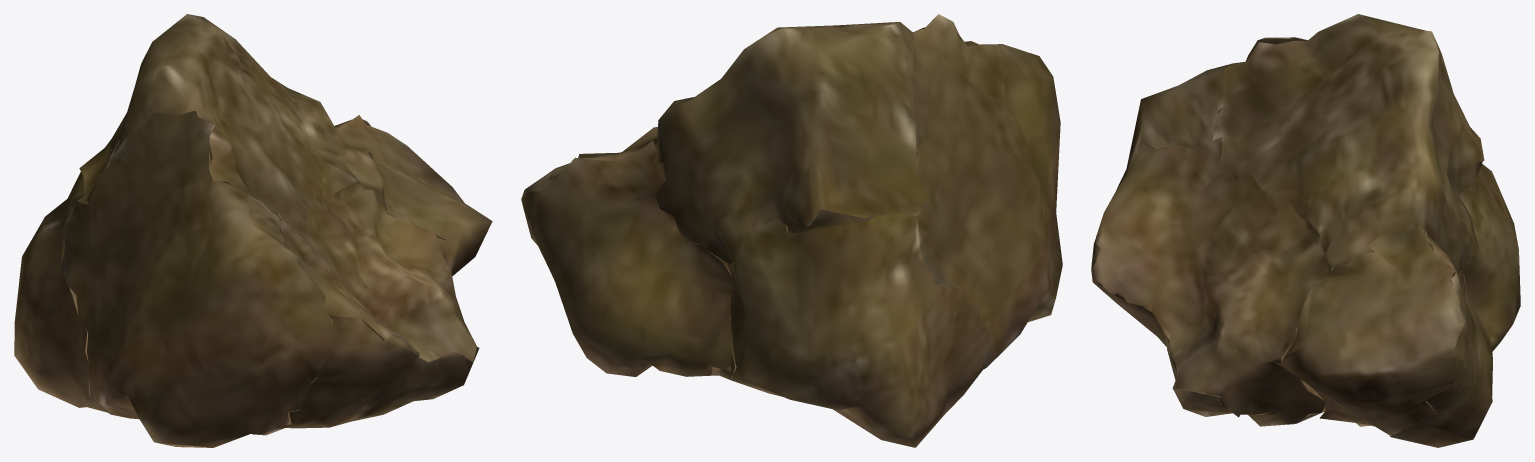
File: rock_moss_a.glb
The picture shows the model from 3 angles, left to right: view 1: azimuth 30°, elevation 25°; view 2: azimuth 150°, elevation 25°; view 3: azimuth 270°, elevation 25°; orthographic projection. The views are drawn at different scales.
Parts seen in each view (by area): view 1: rock_moss_set_01_rock04; view 2: rock_moss_set_01_rock04; view 3: rock_moss_set_01_rock04.
Part boxes in pixels (x1=…): rock_moss_set_01_rock04: x1=14, y1=14, x2=492, y2=447; rock_moss_set_01_rock04: x1=521, y1=14, x2=1062, y2=447; rock_moss_set_01_rock04: x1=1091, y1=14, x2=1520, y2=447.
Bounding box in the file's own units: 2.14 × 1.76 × 1.97.
1 material, 1 textured.
